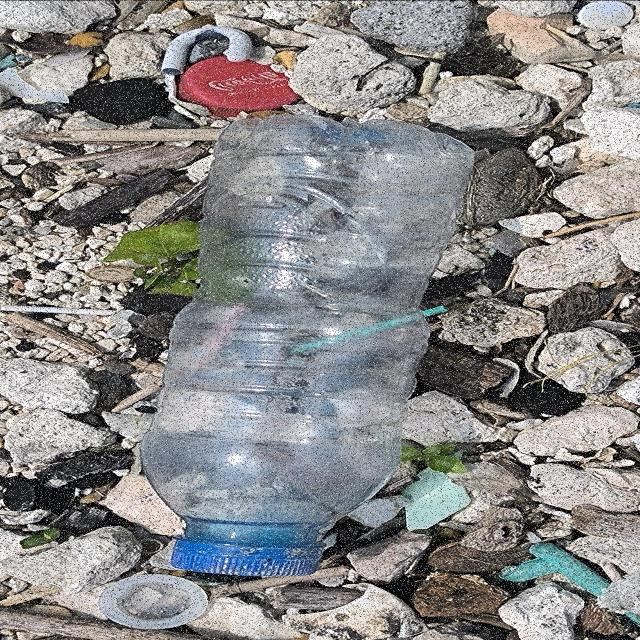plastic_waste: (138, 113, 478, 578), (176, 56, 306, 120), (101, 574, 211, 631)
